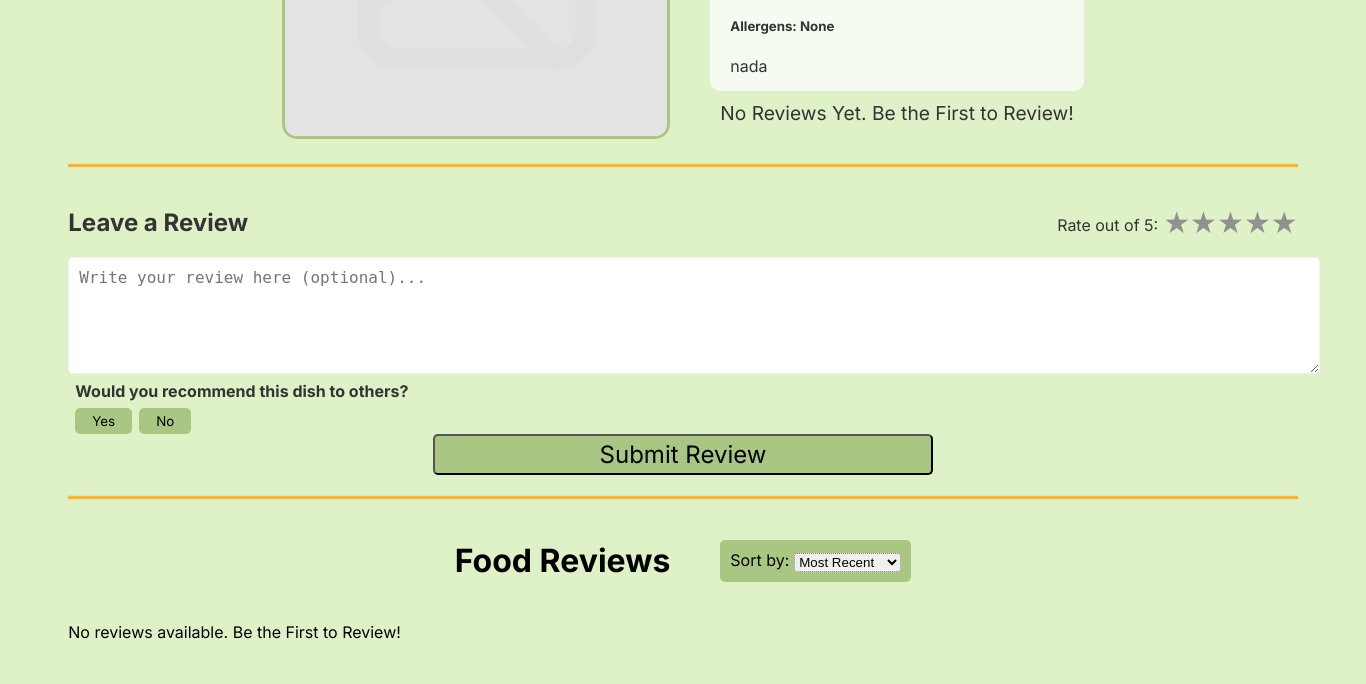
Test: reviewForm functions as expected › expect review submission success, test buttons 3
(page scrolled)
Click the button with aria-label "YesButton" at (104, 421), box [75,408,132,434]
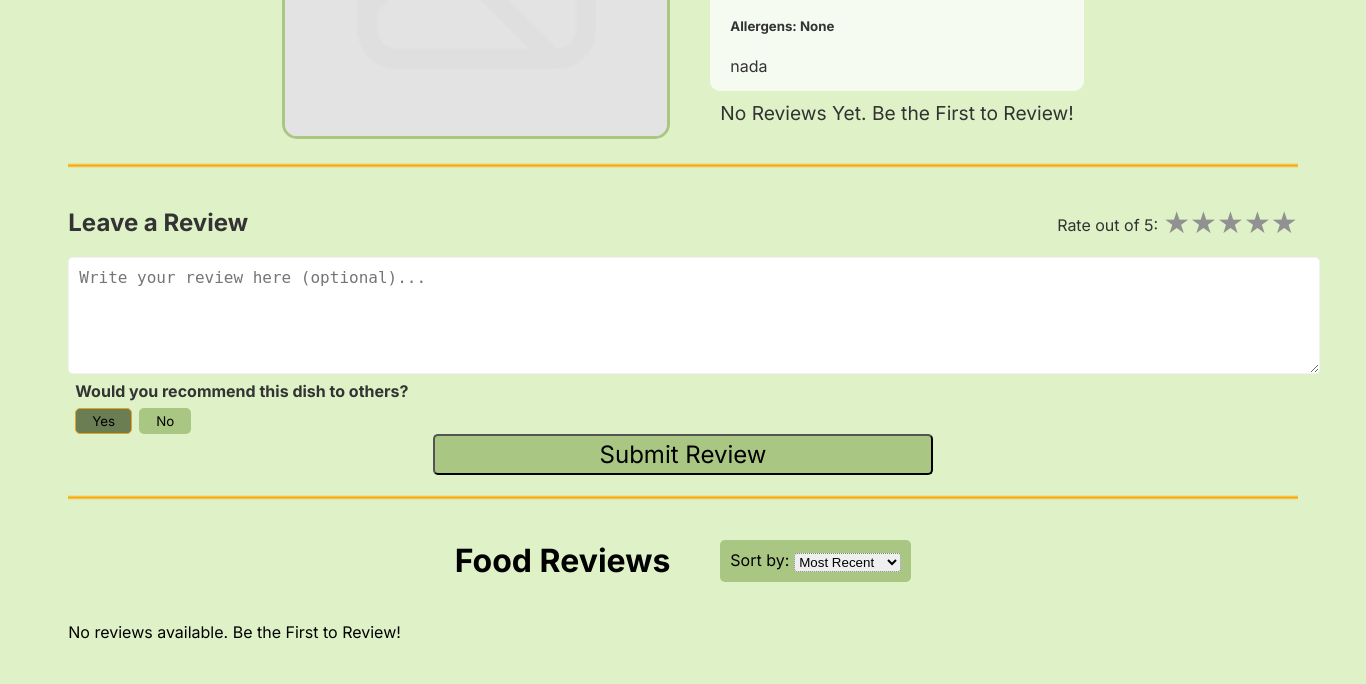
Click the button with aria-label "NoButton" at (165, 421), box [139,408,191,434]
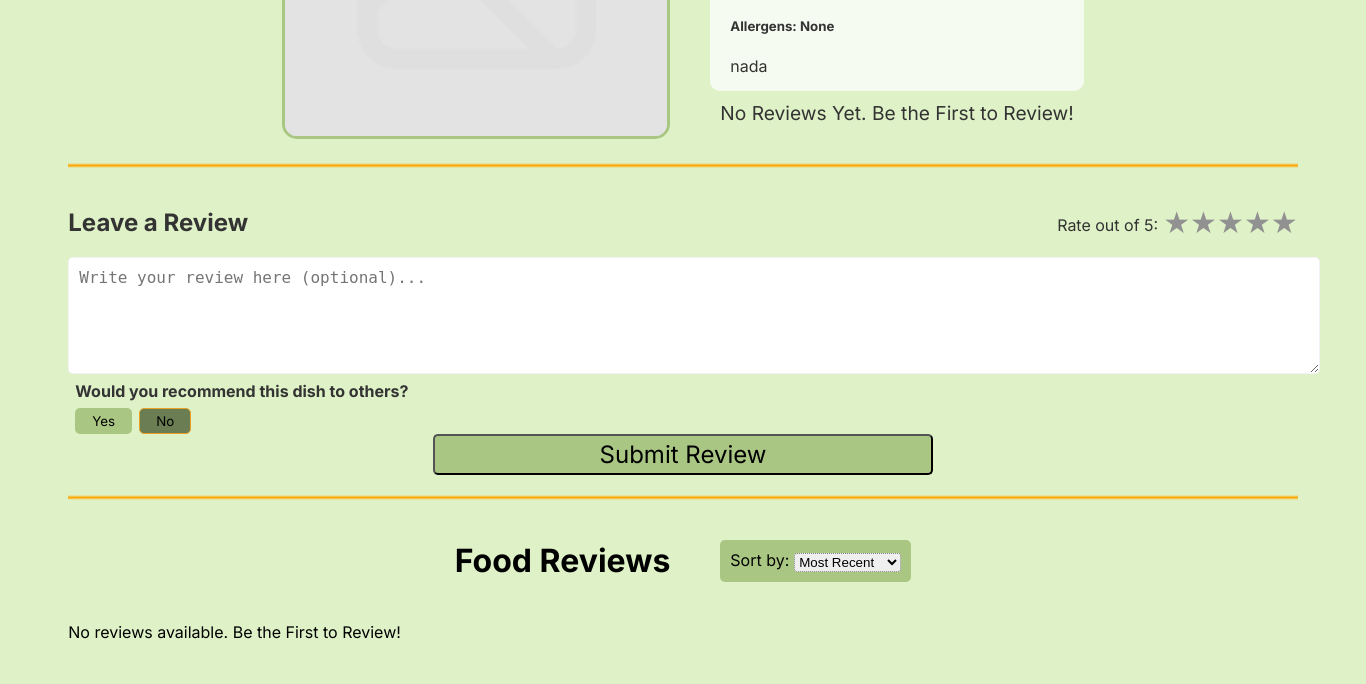
Click the text named "reviewFormStars" at (1257, 222), box [1244,204,1271,240]
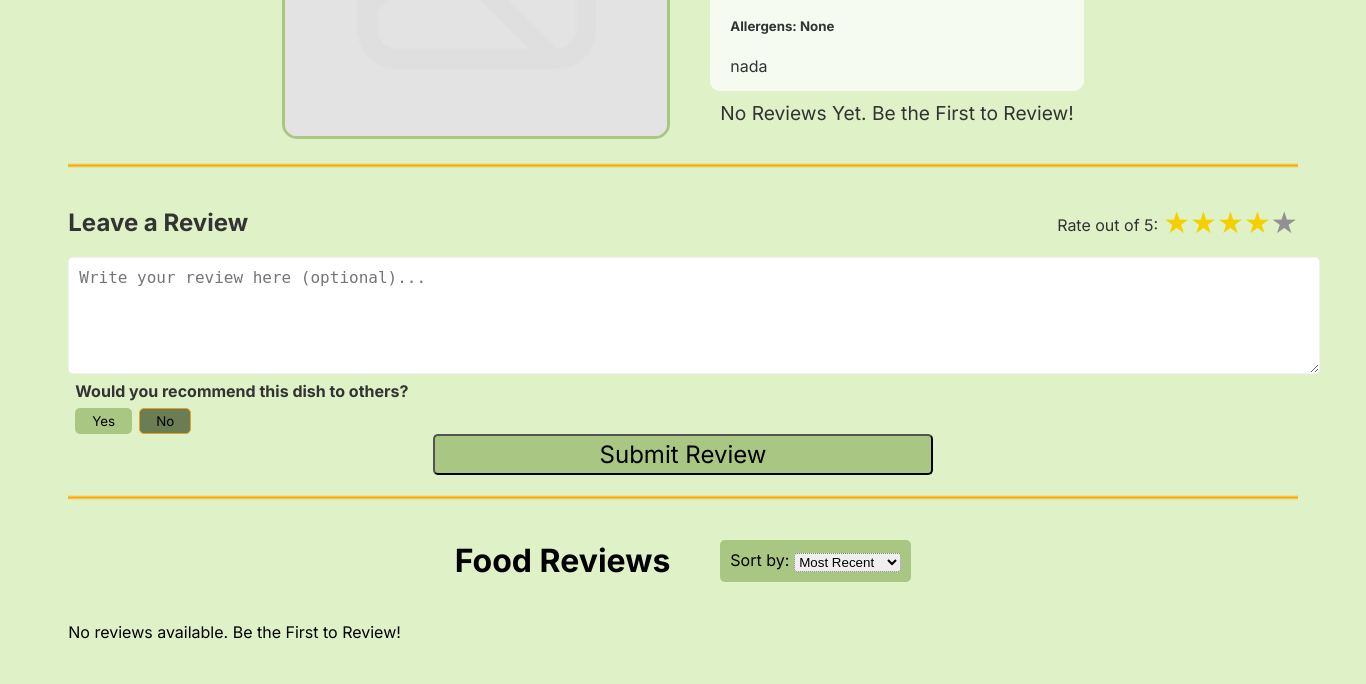
Click the button with aria-label "SubmitButton" at (683, 454), box [433,434,933,475]
(page scrolled)
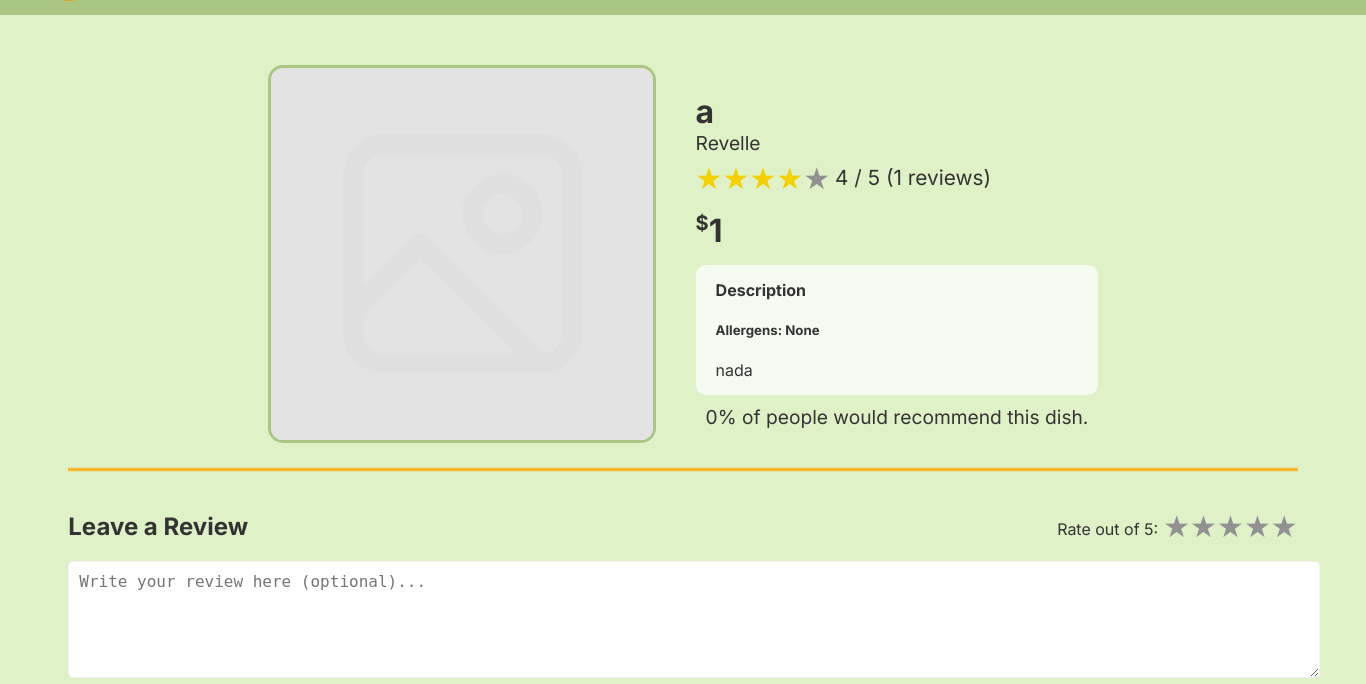
Check: the text named "ratingStarFilled" reads "★★★★", box [696,160,803,196]
Check: the text "0% of people would recommend this dish." is shown, box [706,405,1088,429]
Check: the text "4 / 5 (1 reviews)" is shown, box [830,165,991,190]
